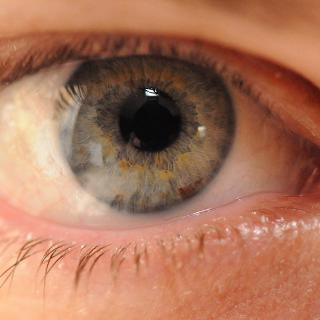pupil: (117, 87, 182, 152)
